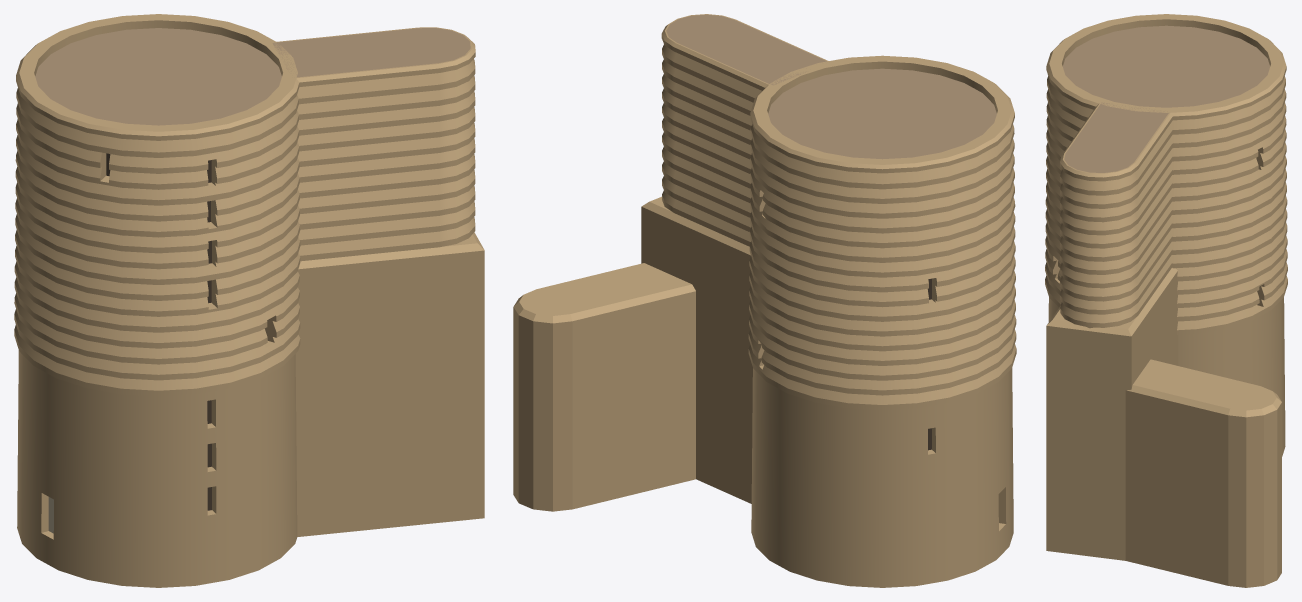
File: baku-maiden-tower.glb
3 views of the same model, side by side, from view 1: azimuth 30°, elevation 25°; view 2: azimuth 150°, elevation 25°; view 3: azimuth 270°, elevation 25° (orthographic). The views are drawn at different scales.
Visible parts, largest first — view 1: Maiden Tower; view 2: Maiden Tower; view 3: Maiden Tower.
Boxes of the visible parts, x1,y1,x2,y2 form: Maiden Tower: (14,14,484,587); Maiden Tower: (513,14,1016,587); Maiden Tower: (1045,14,1287,587).
Size of the model in its own units: 31.88 by 29.5 by 16.97.
